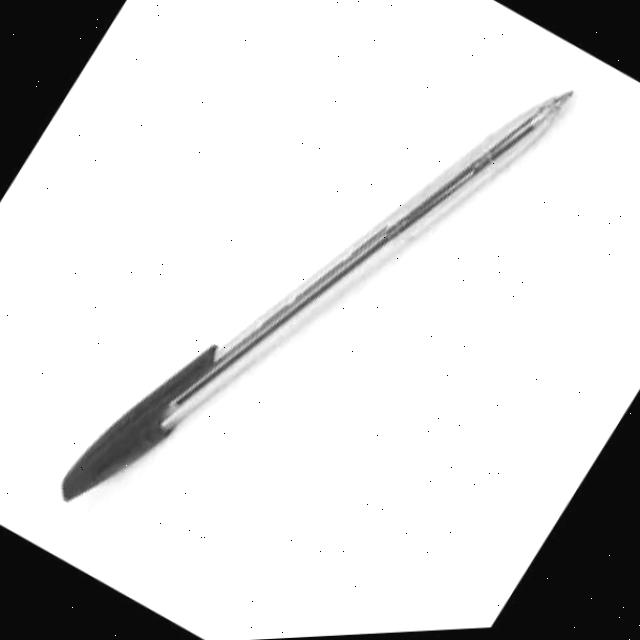pencil: (49, 82, 598, 499)
